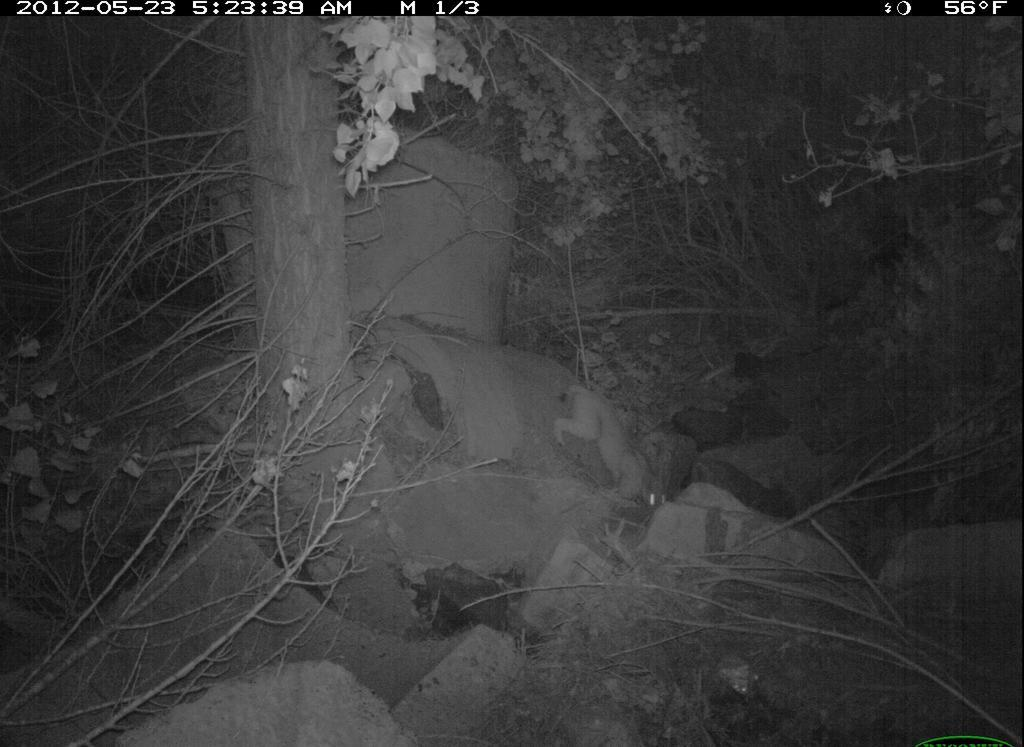bobcat: (557, 379, 673, 541)
